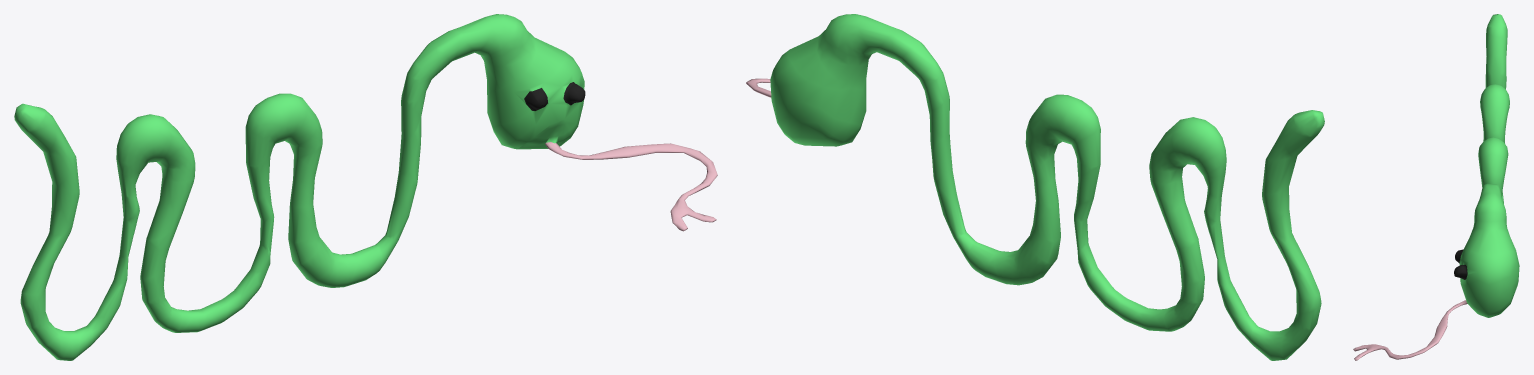
The model's file is snake_redo.glb.
The picture shows the model from 3 angles, left to right: view 1: azimuth 30°, elevation 25°; view 2: azimuth 150°, elevation 25°; view 3: azimuth 270°, elevation 25°; orthographic projection. The views are drawn at different scales.
Visible parts, largest first — view 1: snake-tongue; view 2: snake-tongue; view 3: snake-tongue.
Boxes of the visible parts, x1,y1,x2,y2 form: snake-tongue: [14, 14, 717, 360]; snake-tongue: [746, 14, 1324, 360]; snake-tongue: [1353, 14, 1519, 360].
Size of the model in its own units: 10.89 by 4.32 by 3.4.
